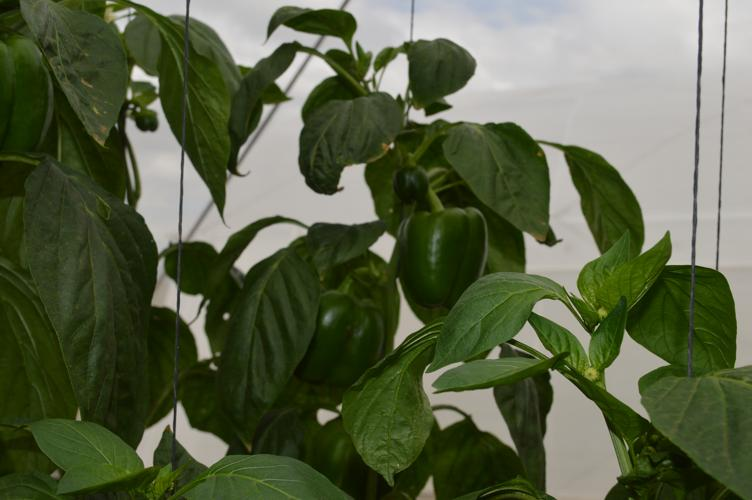BellPepper: (398, 206, 486, 315), (288, 291, 386, 388), (4, 37, 54, 151)
